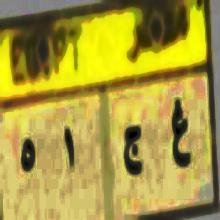1: (62, 123, 77, 175)
5: (18, 132, 35, 180)
ghayn: (170, 92, 194, 178)
jeem: (122, 124, 143, 181)
